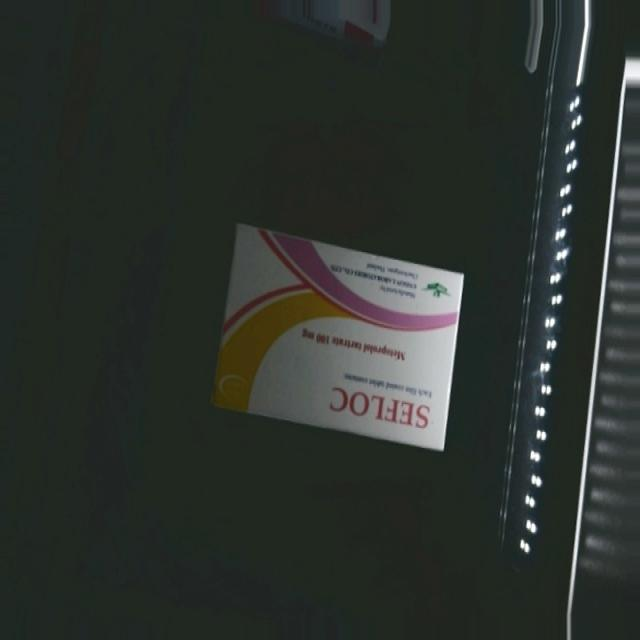medicine_name_detection: (210, 224, 459, 448)
